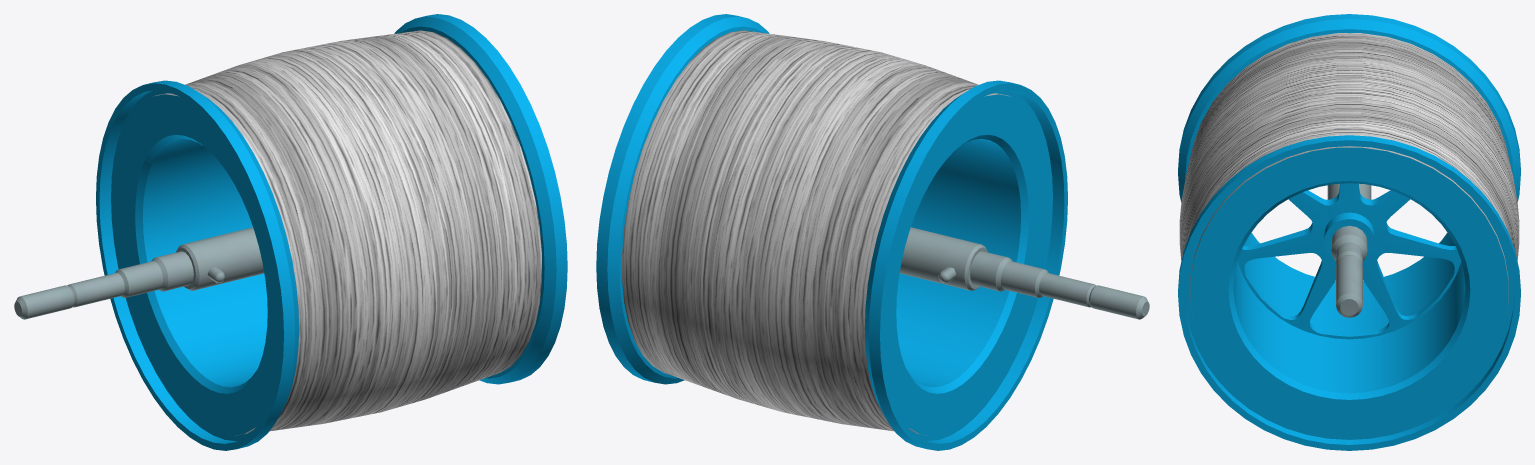
Rendered from spool_7013.glb.
3 views of the same model, side by side, from view 1: azimuth 30°, elevation 25°; view 2: azimuth 150°, elevation 25°; view 3: azimuth 270°, elevation 25° (orthographic). The views are drawn at different scales.
Parts seen in each view (by area): view 1: bclp_leska_mesh, spool_7011_7013; view 2: bclp_leska_mesh, spool_7011_7013; view 3: spool_7011_7013, bclp_leska_mesh.
Part boxes in pixels (x1,y1,x2,y2): bclp_leska_mesh: (154,30,541,435); spool_7011_7013: (14,14,567,450); bclp_leska_mesh: (622,30,1010,436); spool_7011_7013: (596,14,1149,450); spool_7011_7013: (1178,14,1520,450); bclp_leska_mesh: (1179,33,1519,320).
Size of the model in its own units: 0.0518 by 0.035 by 0.035.
Materials: 2 (2 with a texture image).
